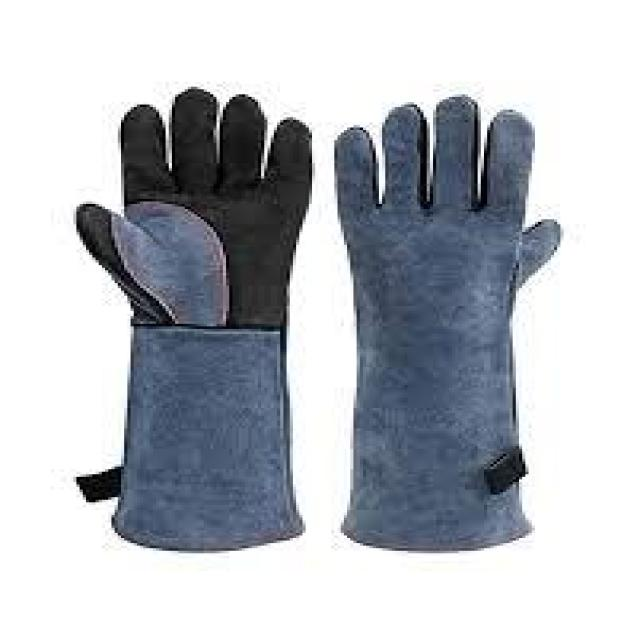Gloves: (71, 81, 324, 555), (334, 84, 573, 556)
